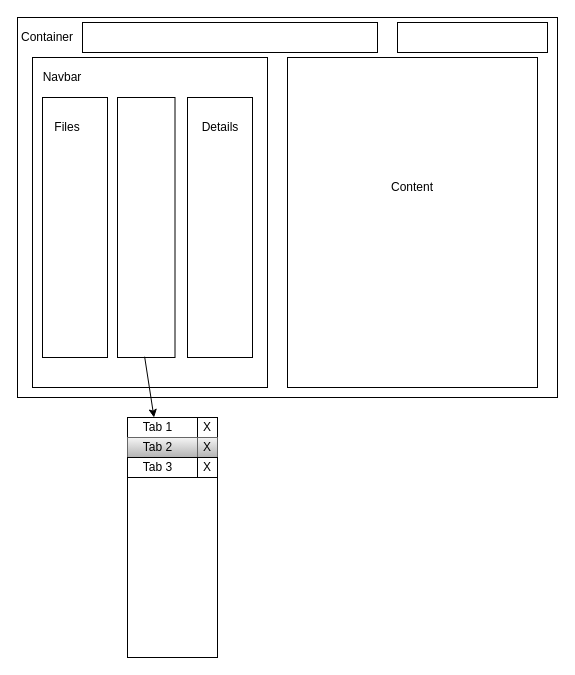
This 575x675 diagram has some shape labels left out. Here are the shapes that lost their labels. From the top down, the centre of each, then its label:
At [230,37]: "path".
At [472,37]: "buttons".
At [145,227]: "Tabs".
